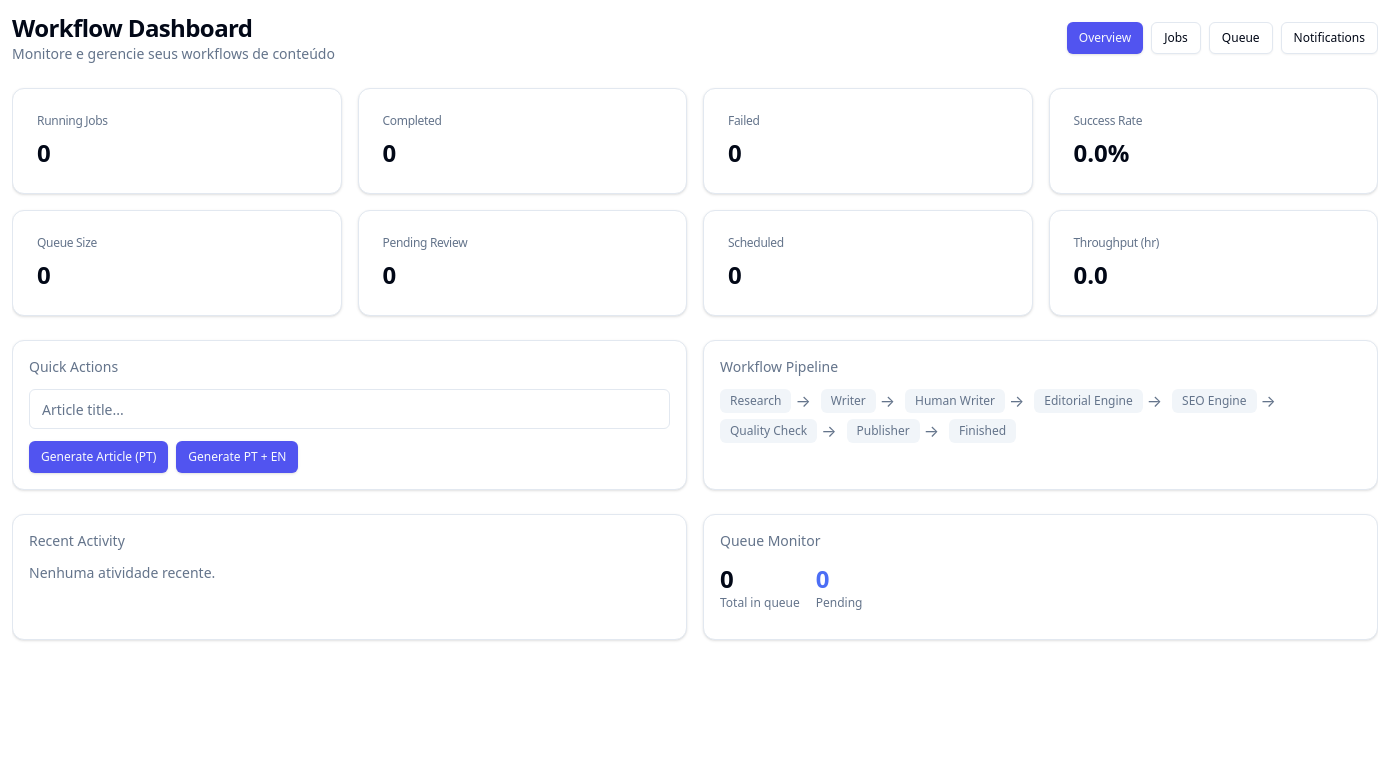
it: Workflow notifications tab › shows the error state and retries on failure
The image size is (1390, 780).
Click the button "Notifications": [1329, 38] box [1281,22,1378,54]
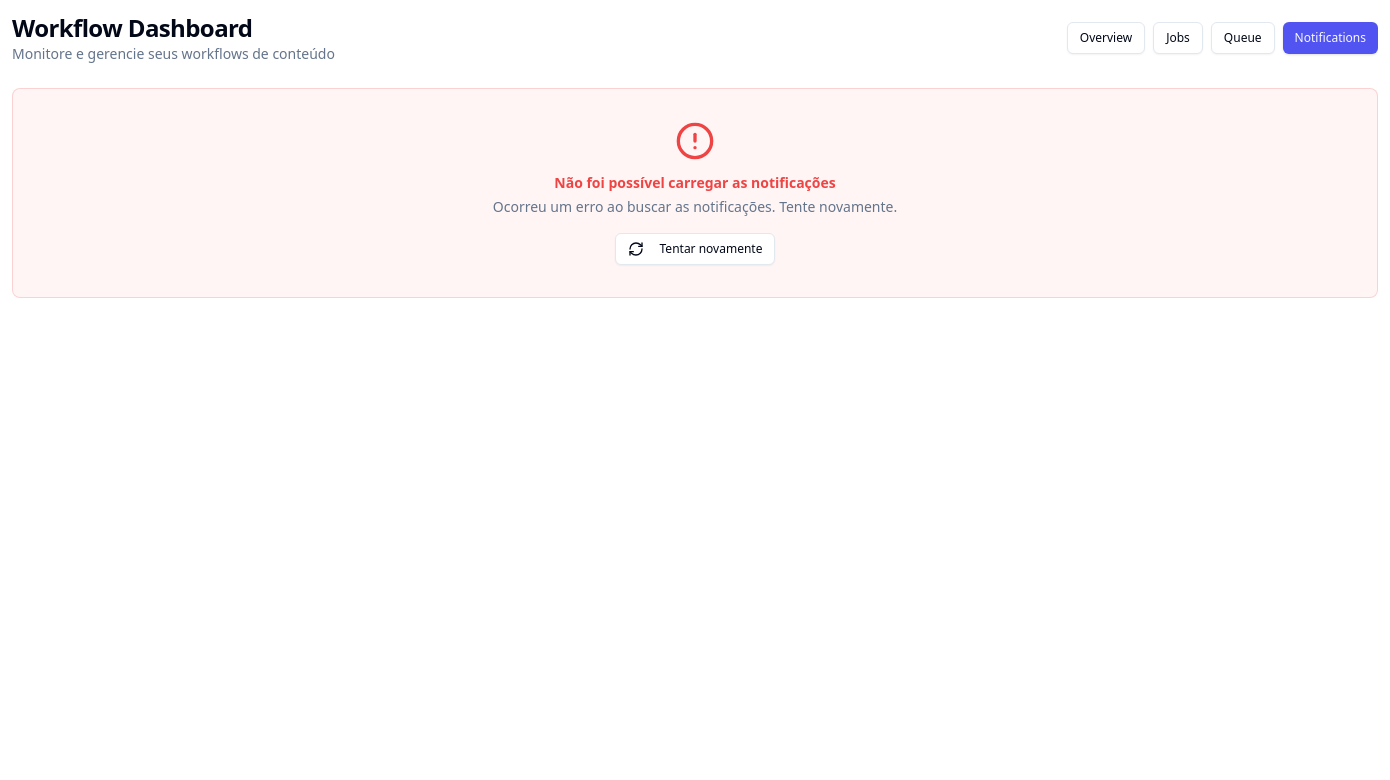
Expected: the heading "Não foi possível carregar as notificações" is shown, [554,173,836,193]
Click the button "Tentar novamente": [695, 249] box [614,233,775,265]
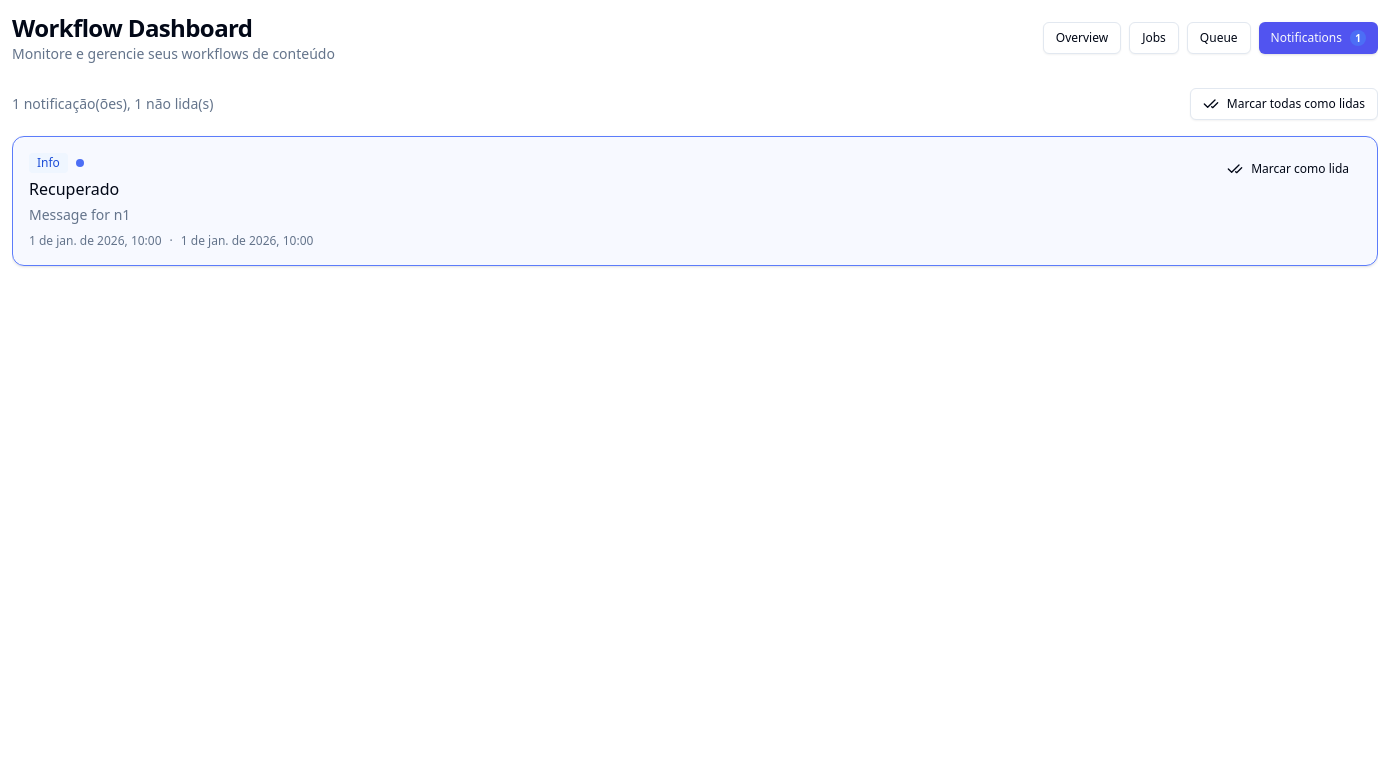
Expected: the heading "Recuperado" is shown, [29,178,119,200]
